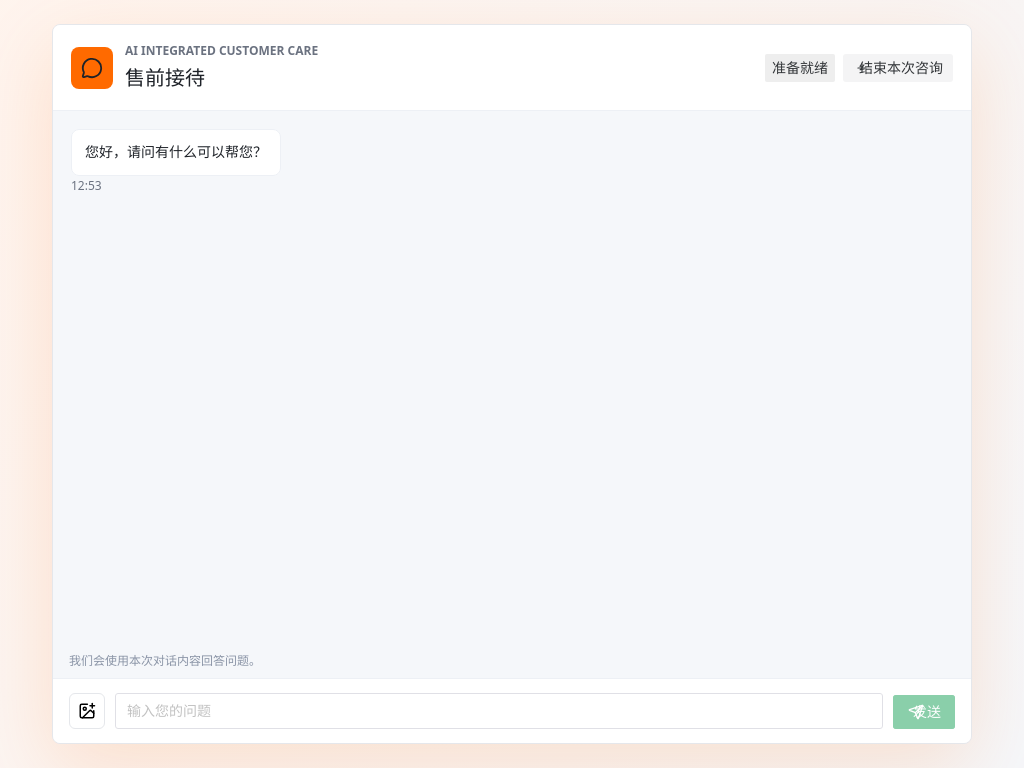
Test case: PublicAICCChatPage › retries a failed task with the original client message id without duplicating the visitor message
This screenshot has width=1024, height=768.
Type "失败后重试" into the text box with placeholder "输入您的问题" at (499,711), box [127, 693, 871, 729]
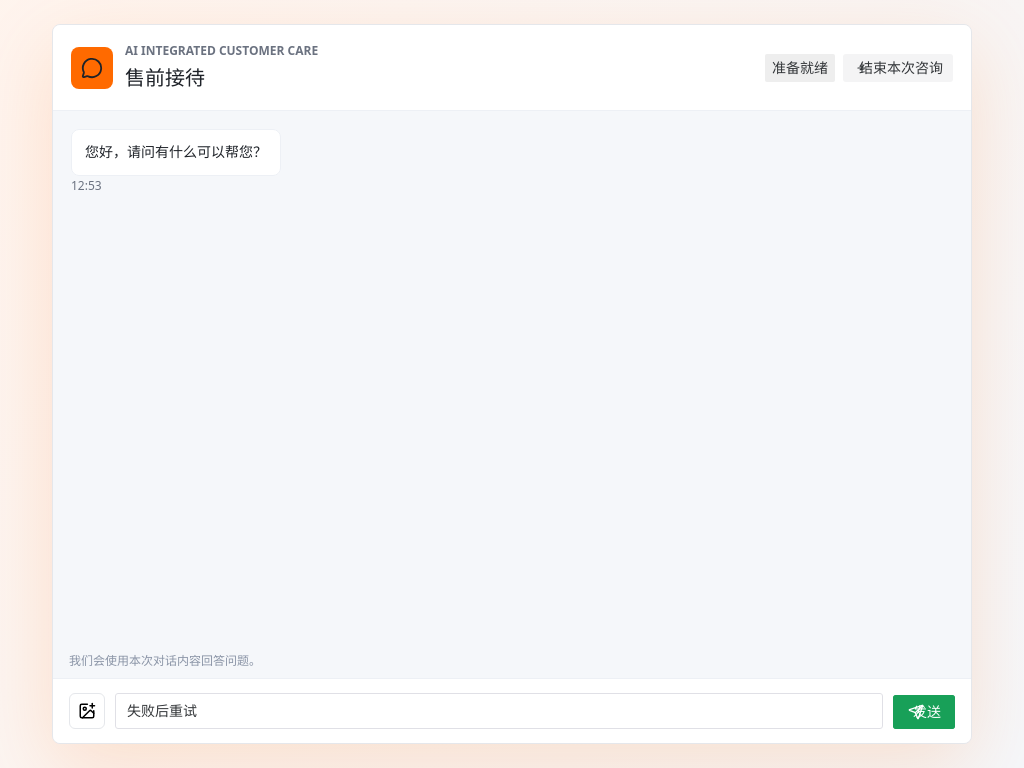
Submit the form with class "composer", box [53, 678, 971, 743]
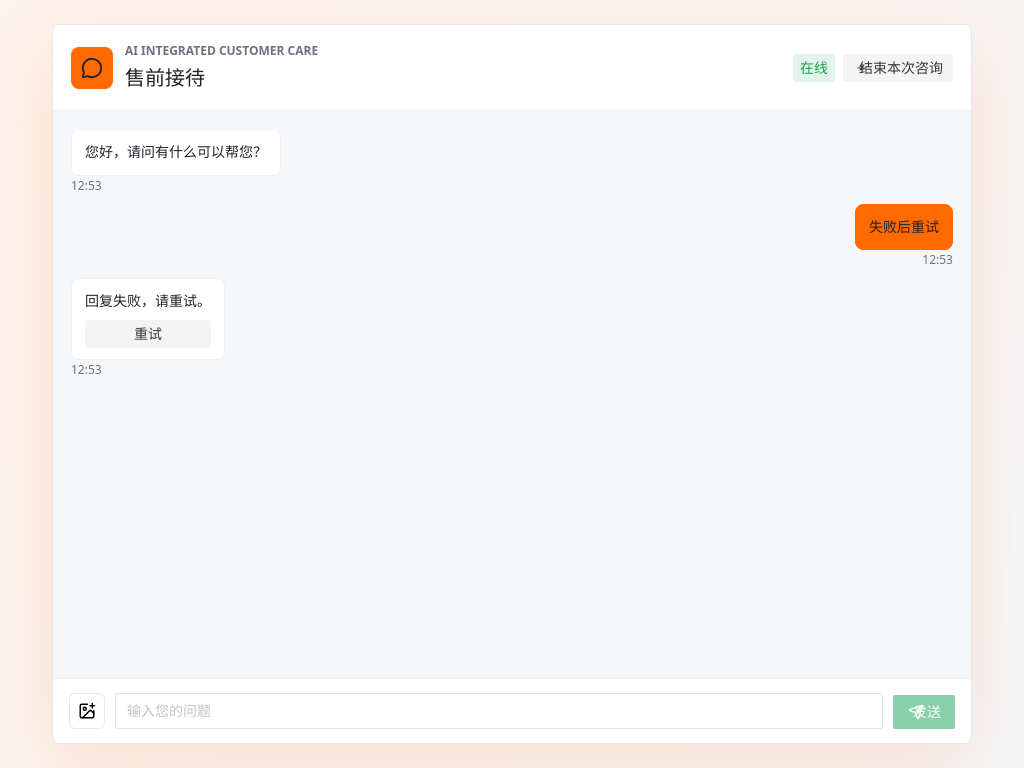
Check: the text "回复失败，请重试。" is shown, box [85, 290, 211, 312]
Click the button "重试" at (148,334), box [85, 320, 211, 348]
Wait 2000 ms
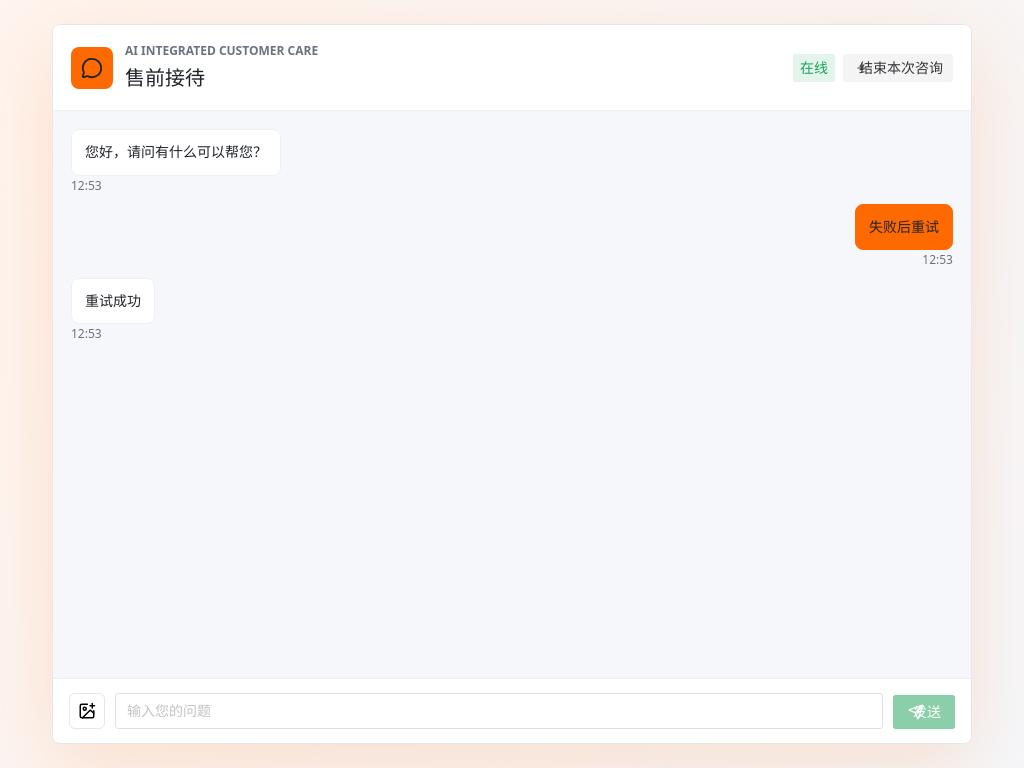
Check: the number of elements with class "message-row" is 1, box [855, 204, 953, 268]
Check: the text "重试成功" is shown, box [85, 290, 141, 312]
